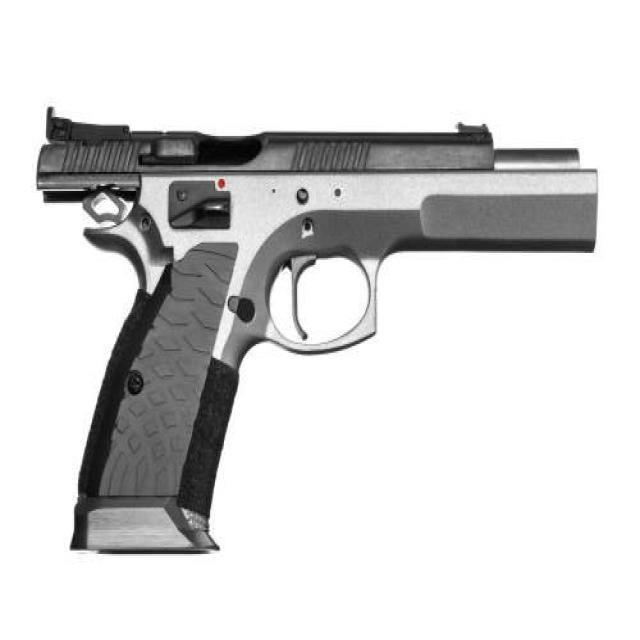pistol: (32, 92, 607, 566)
